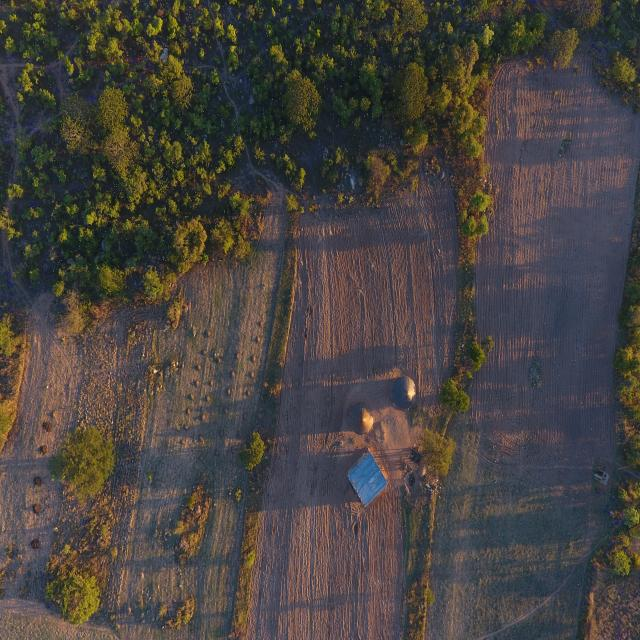boundaries: (398, 260, 483, 631), (224, 271, 310, 626)
